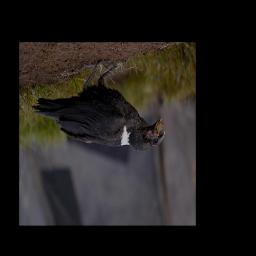Crow: (30, 56, 166, 155)
